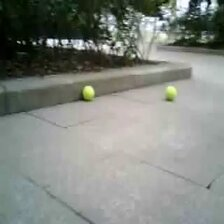tennis: (164, 86, 178, 100), (83, 85, 94, 99)
